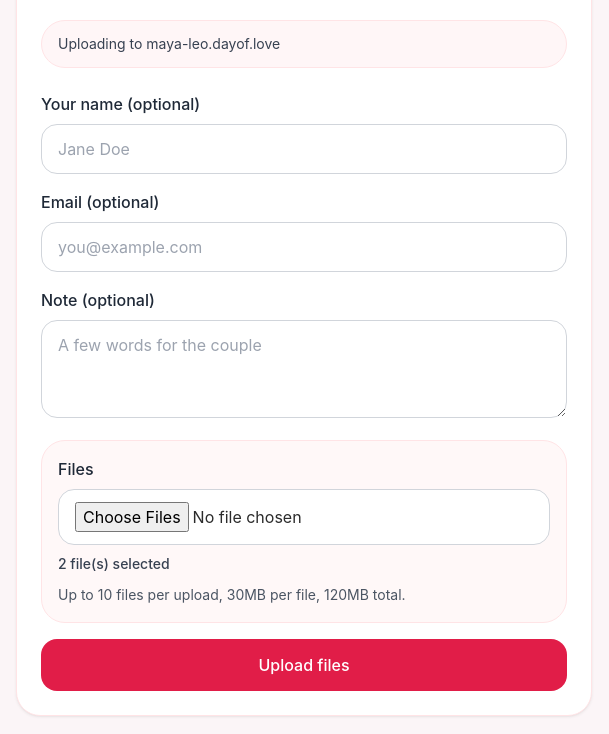
Scenario: PhotoUpload guest-safe copy › keeps failed files selected after a partial upload so guests can retry them
Earlier steps of the test are not shown.
(page scrolled)
Click the button "Upload files" at [304, 665], box x1=41 y1=639 x2=567 y2=691
(page scrolled)
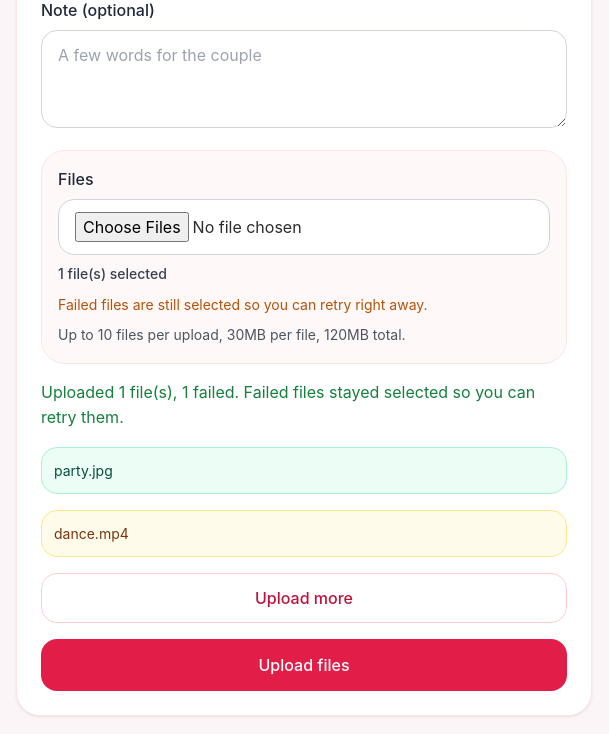
Expected: the text "Uploaded 1 file(s), 1 failed. Failed files stayed selected so you can retry them." is shown, x1=41 y1=382 x2=535 y2=427
Expected: the text "Failed files are still selected so you can retry right away." is shown, x1=58 y1=296 x2=428 y2=313
Expected: the text "1 file(s) selected" is shown, x1=58 y1=265 x2=167 y2=282
